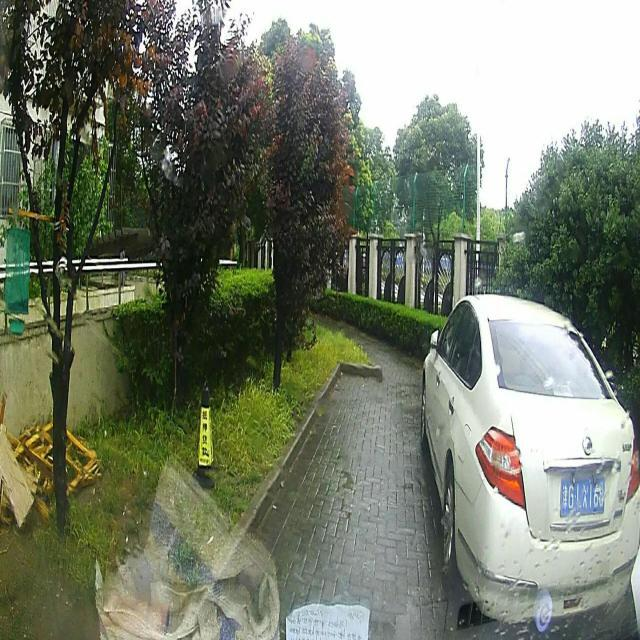car: (420, 293, 640, 625)
